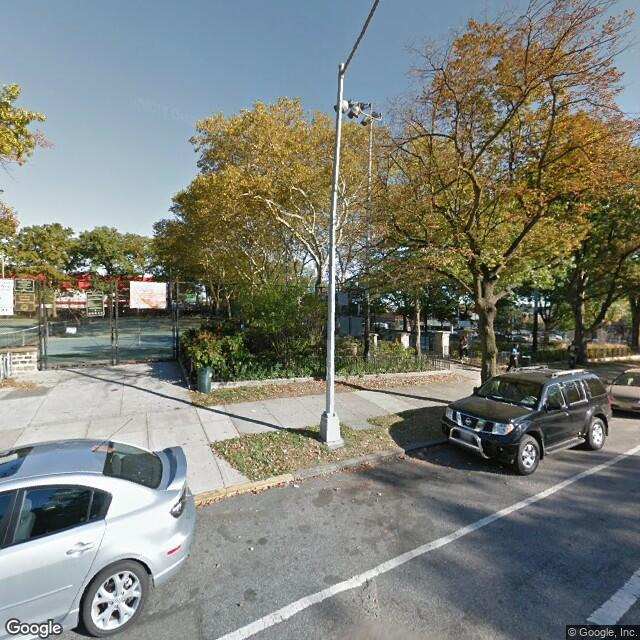litter: (249, 545, 257, 551), (292, 482, 297, 486), (249, 408, 254, 411), (376, 491, 380, 494)
